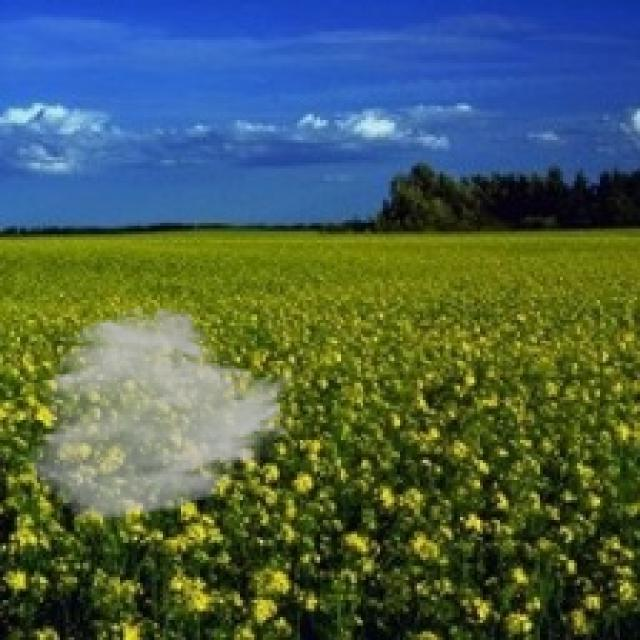smoke: (26, 303, 300, 523)
